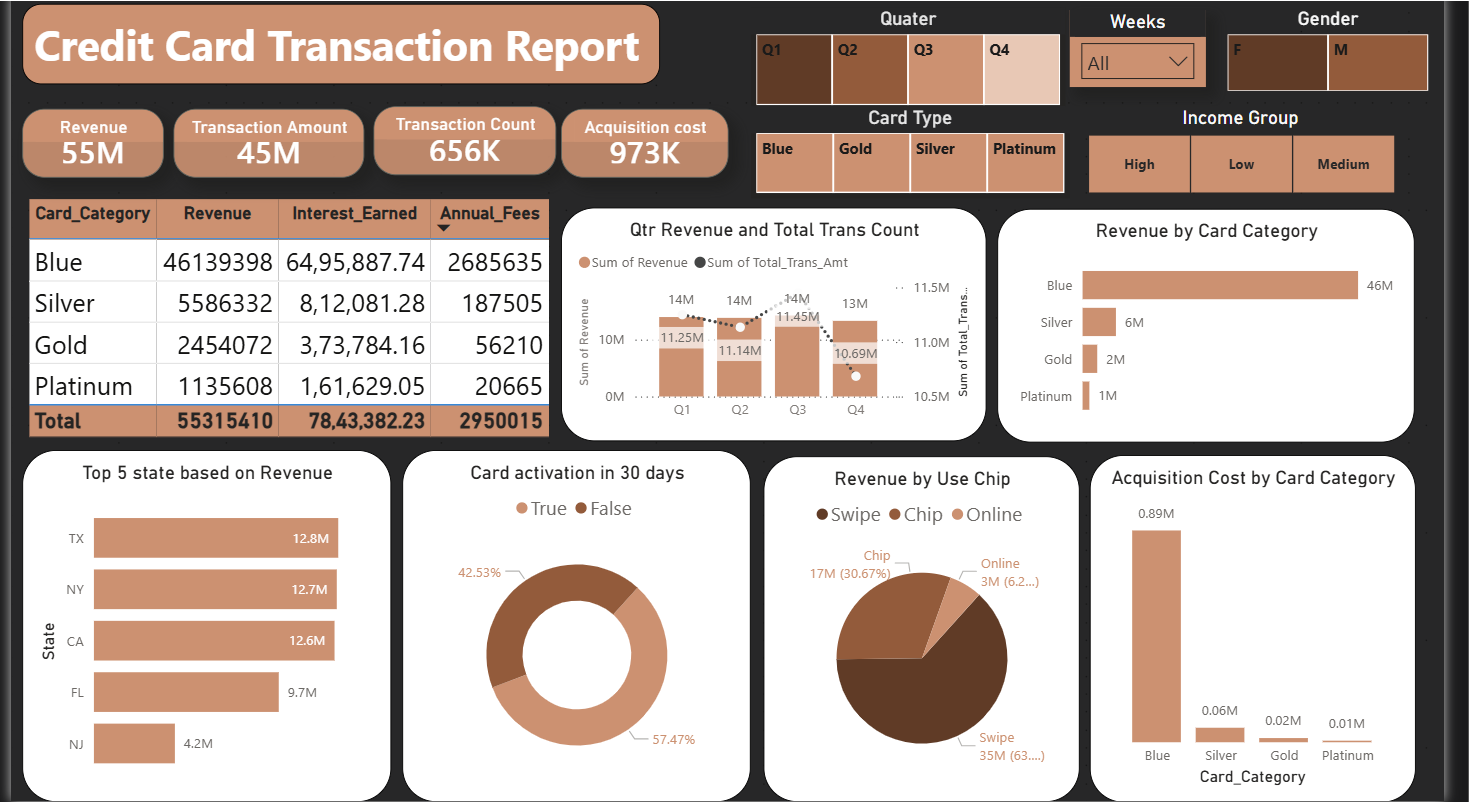

The page's visual inventory and layout, read from the dashboard file:
{"tool":"powerbi","page":{"name":"CC Transaction","canvas":[1280,720],"ordinal":0},"visuals":[{"type":"textbox","box":[9.8,7.4,569.3,72.4],"z":0},{"type":"lineClusteredColumnComboChart","title":" Qtr Revenue and  Total Trans Count","fields":{"Category":["ccdb cc_detail.Qtr"],"Y":["Sum(ccdb cc_detail.Revenue)"],"Y2":["Sum(ccdb cc_detail.Total_Trans_Amt)"]},"box":[490.8,190.2,380.4,208.6],"z":1000},{"type":"barChart","title":" Revenue by Card Category","fields":{"Category":["ccdb cc_detail.Card_Category"],"Y":["Sum(ccdb cc_detail.Revenue)"]},"box":[881,190.4,373,208.6],"z":2000},{"type":"pieChart","title":" Revenue by Use Chip","fields":{"Category":["ccdb cc_detail.Use_Chip"],"Y":["Sum(ccdb cc_detail.Revenue)"]},"box":[672.4,411.7,282.7,308.7],"z":3000},{"type":"tableEx","fields":{"Values":["ccdb cc_detail.Card_Category","Sum(ccdb cc_detail.Revenue)","Sum(ccdb cc_detail.Interest_Earned)","Sum(ccdb cc_detail.Annual_Fees)"]},"box":[9.8,177.9,481,228.2],"z":4000},{"type":"card","title":"Revenue","fields":{"Values":["Sum(ccdb cc_detail.Revenue)"]},"box":[10.3,101.1,126.4,61.4],"z":5000},{"type":"card","title":"Transaction Amount","fields":{"Values":["Sum(ccdb cc_detail.Total_Trans_Amt)"]},"box":[145.3,101.1,170.6,61.4],"z":6000},{"type":"card","title":"Transaction Count","fields":{"Values":["Sum(ccdb cc_detail.Total_Trans_Vol)"]},"box":[323.2,99.9,163.2,61.4],"z":7000},{"type":"card","title":" Acquisition cost","fields":{"Values":["Sum(ccdb cc_detail.Customer_Acq_Cost)"]},"box":[491.3,101.1,149.7,61.4],"z":8000},{"type":"slicer","title":"Weeks","fields":{"Values":["ccdb cc_detail.Week_Num2"]},"box":[946,13.5,121.5,68.7],"z":9000},{"type":"treemap","title":"Quater","fields":{"Group":["ccdb cc_detail.Qtr"],"Values":["Count(ccdb cc_detail.Week_Num)"]},"box":[661.4,11,281,92],"z":10000},{"type":"treemap","title":"Card Type","fields":{"Group":["ccdb cc_detail.Card_Category"],"Values":["Max(ccdb cust_details.Client_Num)"]},"box":[661.4,99.4,284.7,82.2],"z":11000},{"type":"lineStackedColumnComboChart","title":"Acquisition Cost by Card Category","fields":{"Category":["ccdb cc_detail.Card_Category"],"Y":["Sum(ccdb cc_detail.Customer_Acq_Cost)"]},"box":[963.3,410.3,290.9,310.1],"z":12000},{"type":"slicer","title":"Income Group","fields":{"Values":["ccdb cust_details.Income_Group"]},"box":[942.3,99.4,311.7,78.5],"z":13000},{"type":"barChart","title":"Top 5 state based on Revenue","fields":{"Y":["Sum(ccdb cc_detail.Revenue)"],"Category":["ccdb cust_details.state_cd"]},"box":[9.6,406.2,329.3,314.2],"z":14000},{"type":"donutChart","title":"Card activation in 30 days","fields":{"Category":["ccdb cc_detail.Activation_30_Days"],"Y":["CountNonNull(ccdb cust_details.Age_Group)"]},"box":[349.9,406.2,311.5,314.2],"z":15000},{"type":"treemap","title":"Gender","fields":{"Group":["ccdb cust_details.Gender"],"Values":["Avg(ccdb cust_details.Cust_Satisfaction_Score)"]},"box":[1082.2,11,189,79.8],"z":16000}]}

Visuals, with their boxes on the page's 1280x720 design canvas (x1, y1, x2, y2). These are canvas units, not pixel positions in the 1469x802 screenshot, which may show the page scaled, cropped or inside an application window:
textbox: 10/7/579/80
" Qtr Revenue and  Total Trans Count" lineClusteredColumnComboChart: 491/190/871/399
" Revenue by Card Category" barChart: 881/190/1254/399
" Revenue by Use Chip" pieChart: 672/412/955/720
tableEx - ccdb cc_detail.Card_Category x Sum(ccdb cc_detail.Revenue): 10/178/491/406
"Revenue" card: 10/101/137/162
"Transaction Amount" card: 145/101/316/162
"Transaction Count" card: 323/100/486/161
" Acquisition cost" card: 491/101/641/162
"Weeks" slicer: 946/14/1068/82
"Quater" treemap: 661/11/942/103
"Card Type" treemap: 661/99/946/182
"Acquisition Cost by Card Category" lineStackedColumnComboChart: 963/410/1254/720
"Income Group" slicer: 942/99/1254/178
"Top 5 state based on Revenue" barChart: 10/406/339/720
"Card activation in 30 days" donutChart: 350/406/661/720
"Gender" treemap: 1082/11/1271/91
